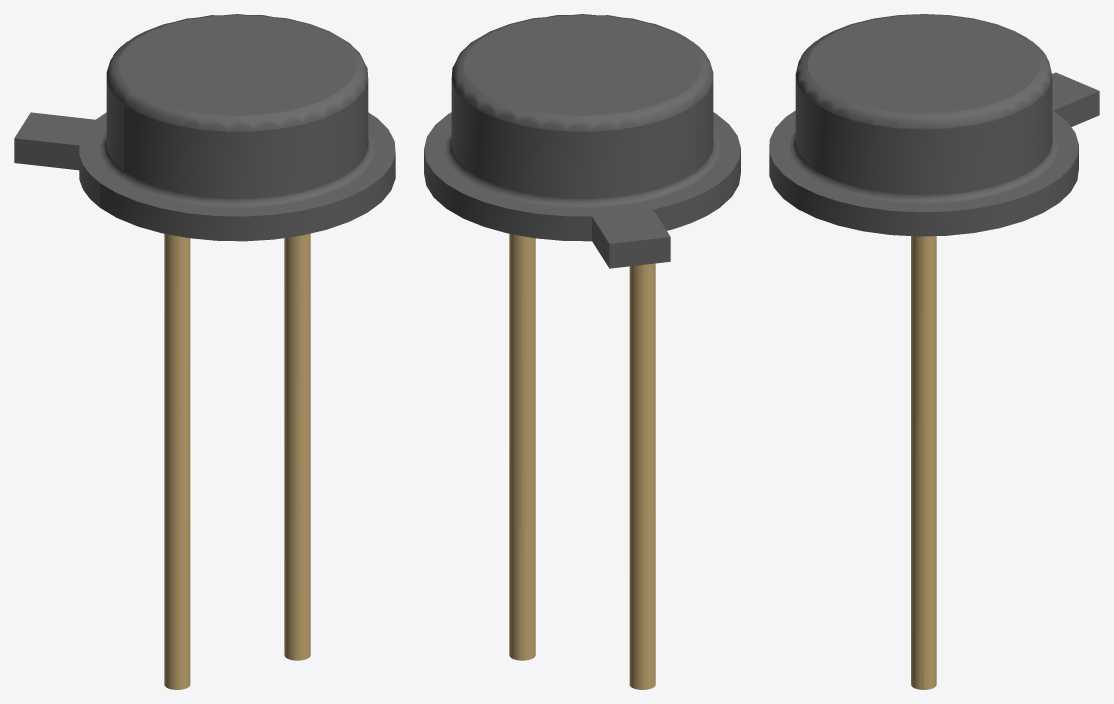
3 views of the same model, side by side, from view 1: azimuth 30°, elevation 25°; view 2: azimuth 150°, elevation 25°; view 3: azimuth 270°, elevation 25° (orthographic). The views are drawn at different scales.
Visible parts, largest first — view 1: 0.16666666666666666_0.16666666666666666_0.16666666666666666_, 0.75_0.5_0.25_0.9; view 2: 0.16666666666666666_0.16666666666666666_0.16666666666666666_, 0.75_0.5_0.25_0.9; view 3: 0.16666666666666666_0.16666666666666666_0.16666666666666666_, 0.75_0.5_0.25_0.9.
Boxes of the visible parts, x1,y1,x2,y2 form: 0.16666666666666666_0.16666666666666666_0.16666666666666666_: [14, 14, 395, 241]; 0.75_0.5_0.25_0.9: [164, 233, 310, 689]; 0.16666666666666666_0.16666666666666666_0.16666666666666666_: [424, 14, 740, 268]; 0.75_0.5_0.25_0.9: [509, 234, 655, 689]; 0.16666666666666666_0.16666666666666666_0.16666666666666666_: [769, 14, 1099, 236]; 0.75_0.5_0.25_0.9: [911, 236, 936, 689].
Size of the model in its own units: 0.6186 by 1.22 by 0.618.
